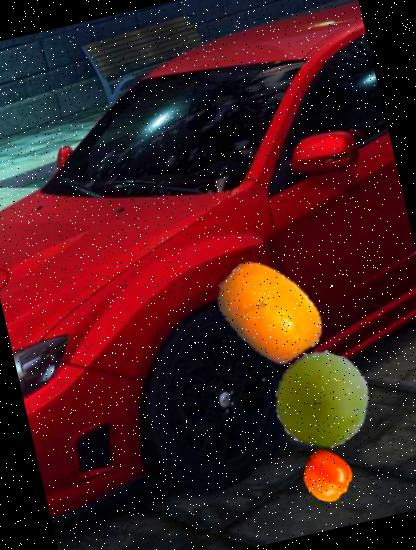Grape: (265, 340, 380, 455)
Kumquats: (203, 245, 337, 379)
Pepper: (296, 446, 357, 506)
